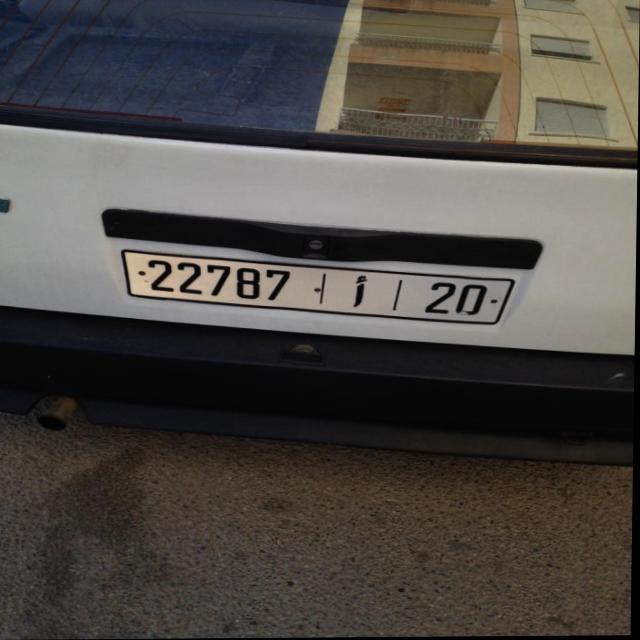License-Plate: (124, 250, 515, 325)
